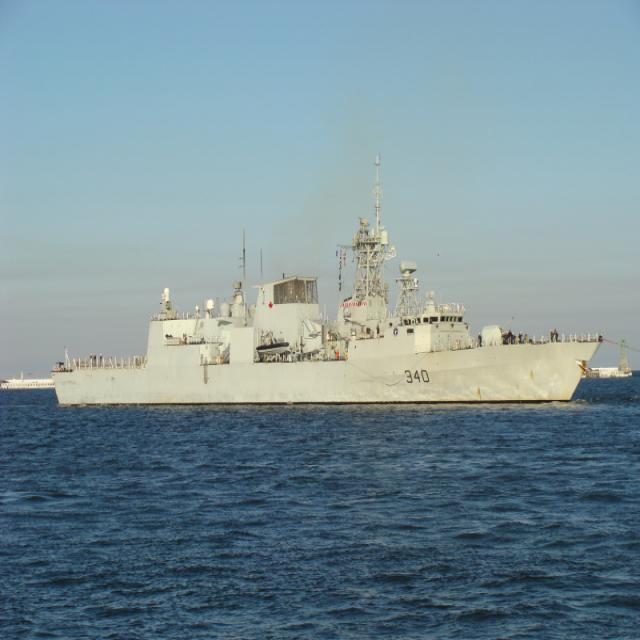Fragata: (54, 149, 607, 414)
